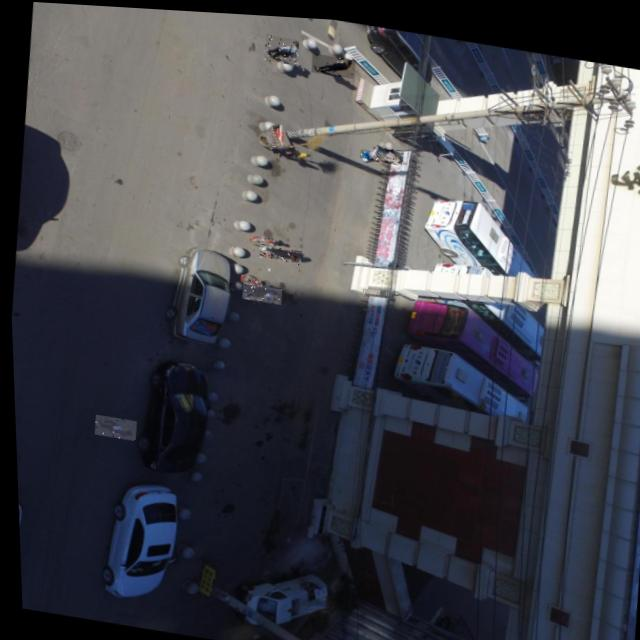Person: (89, 413, 133, 439), (309, 49, 354, 74), (262, 31, 299, 61), (255, 238, 300, 261), (238, 279, 279, 301), (369, 141, 402, 160), (357, 144, 377, 156)
